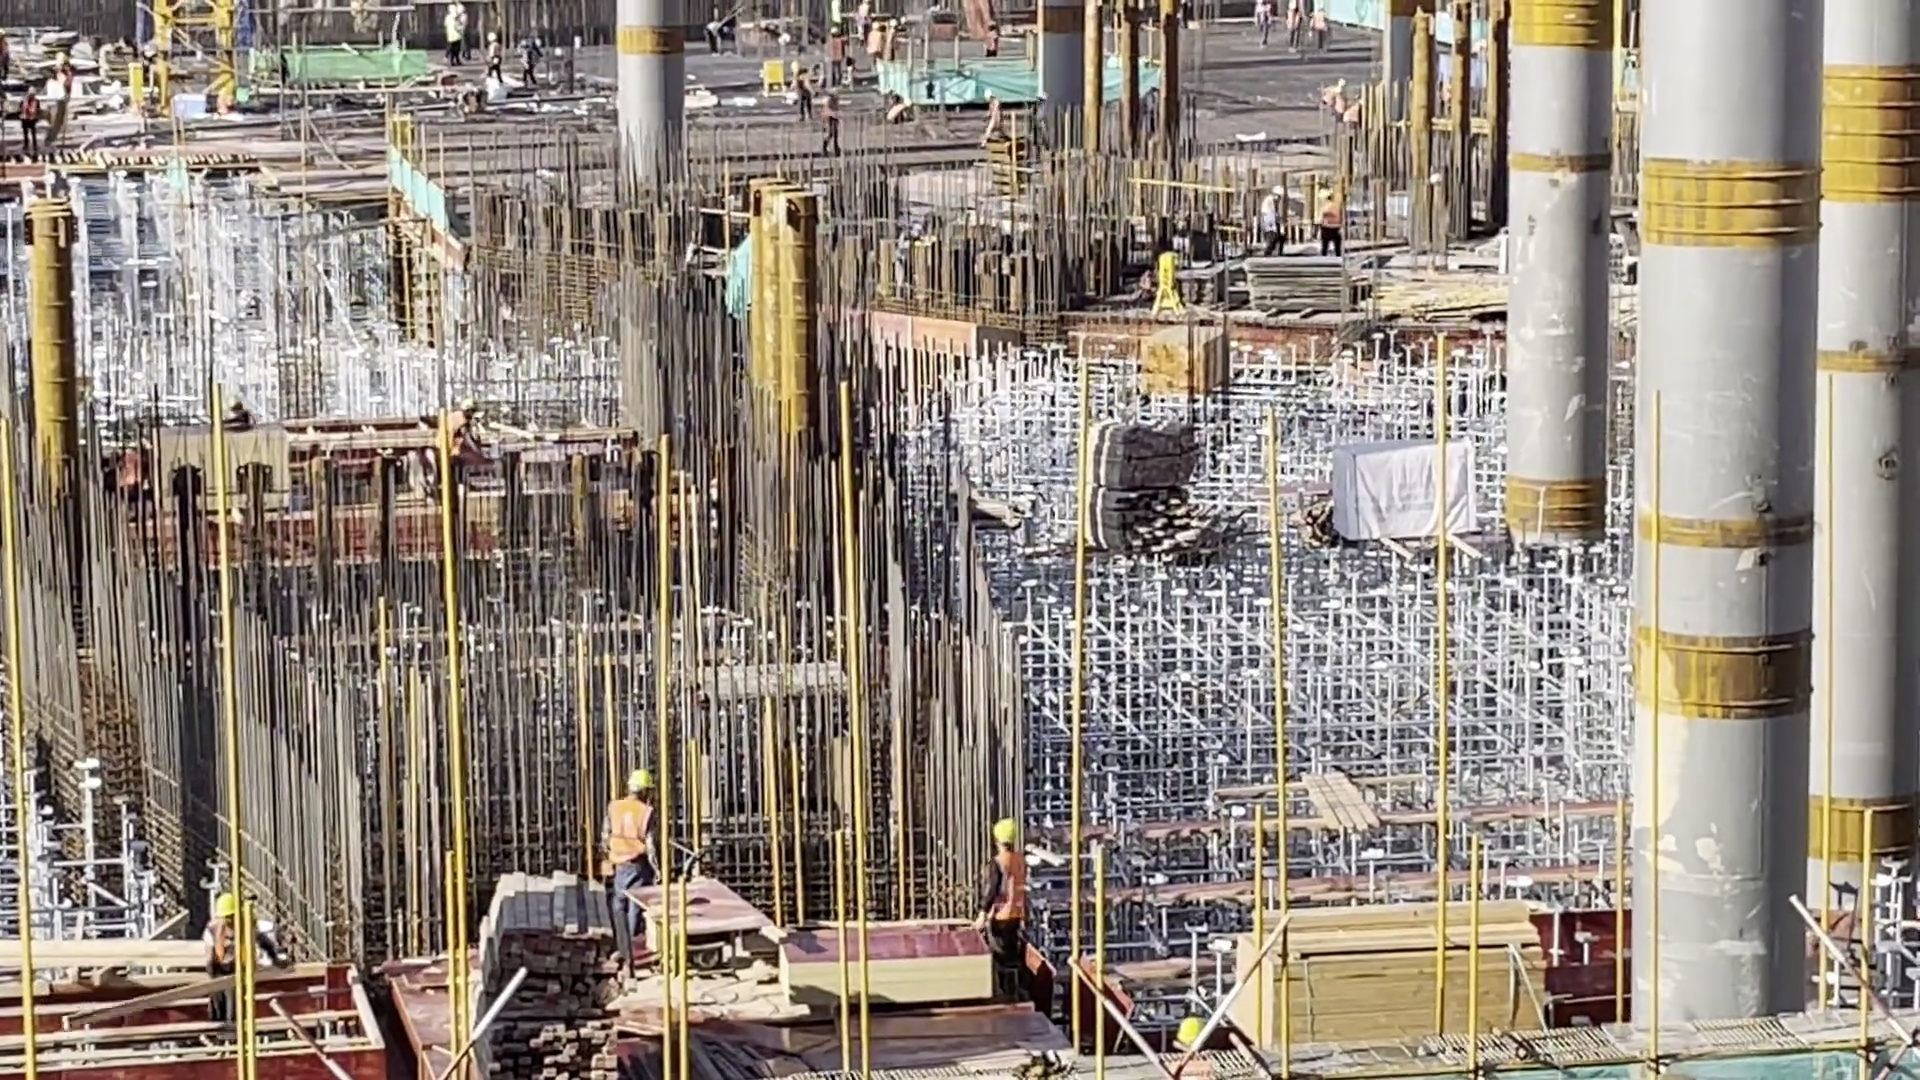board: (776, 925, 997, 1012)
ebox: (1149, 250, 1192, 316), (758, 58, 788, 97), (128, 59, 146, 109)
helmet: (1174, 1016, 1206, 1047), (625, 770, 656, 797), (992, 820, 1021, 847), (217, 897, 237, 921), (455, 398, 479, 412), (1272, 185, 1284, 196), (983, 89, 995, 99), (487, 32, 498, 41), (829, 26, 838, 35), (871, 21, 880, 30), (890, 19, 898, 28), (27, 87, 37, 93)
person: (595, 768, 668, 973), (979, 817, 1029, 1015), (197, 894, 245, 1038), (449, 398, 494, 474), (1256, 185, 1289, 256), (1314, 188, 1345, 256), (786, 61, 816, 122), (980, 89, 1011, 148), (19, 86, 42, 157), (822, 26, 847, 91), (820, 87, 843, 158), (50, 53, 78, 104), (443, 4, 464, 67), (702, 20, 734, 57), (484, 32, 507, 85), (518, 40, 540, 89), (885, 94, 916, 125), (1284, 1, 1303, 56), (865, 20, 886, 66), (1311, 6, 1330, 52), (1254, 2, 1272, 50), (981, 19, 1001, 60), (1, 26, 13, 84), (1341, 100, 1361, 130), (886, 18, 897, 64), (1334, 86, 1345, 123)
vest: (606, 799, 652, 865), (996, 849, 1025, 922), (204, 915, 235, 966), (19, 97, 37, 121), (868, 31, 884, 55), (828, 39, 844, 62), (1286, 10, 1302, 29), (1314, 12, 1327, 31)
wood: (1229, 896, 1551, 1035), (471, 867, 621, 1080), (1140, 324, 1189, 398)
